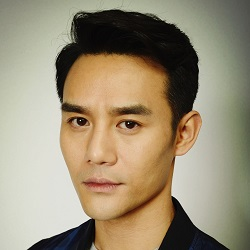unmask: (53, 49, 178, 224)
